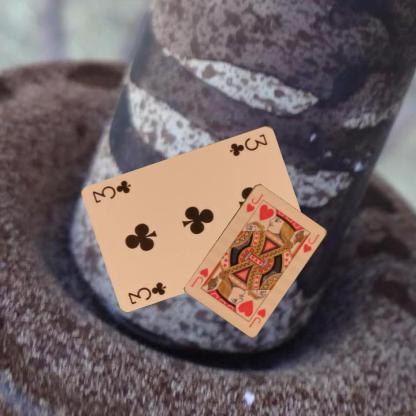3c: (126, 278, 168, 306), (227, 131, 269, 157)
Jh: (245, 301, 267, 328), (243, 191, 265, 213)
